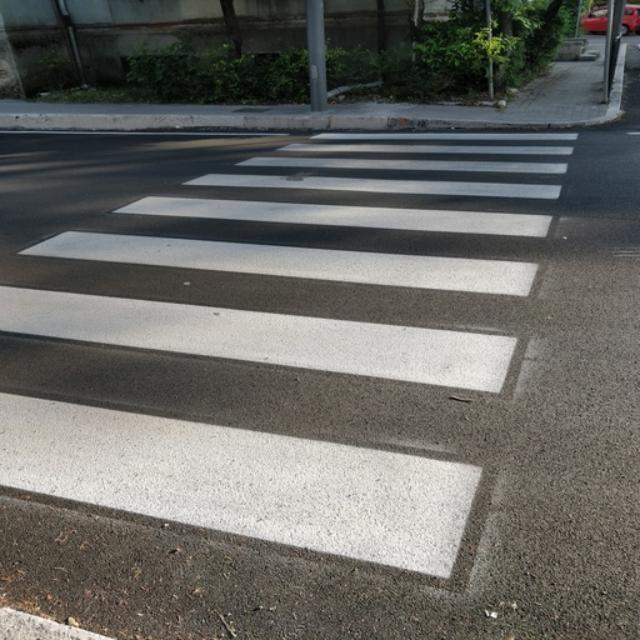sidewalk: (4, 131, 583, 590)
